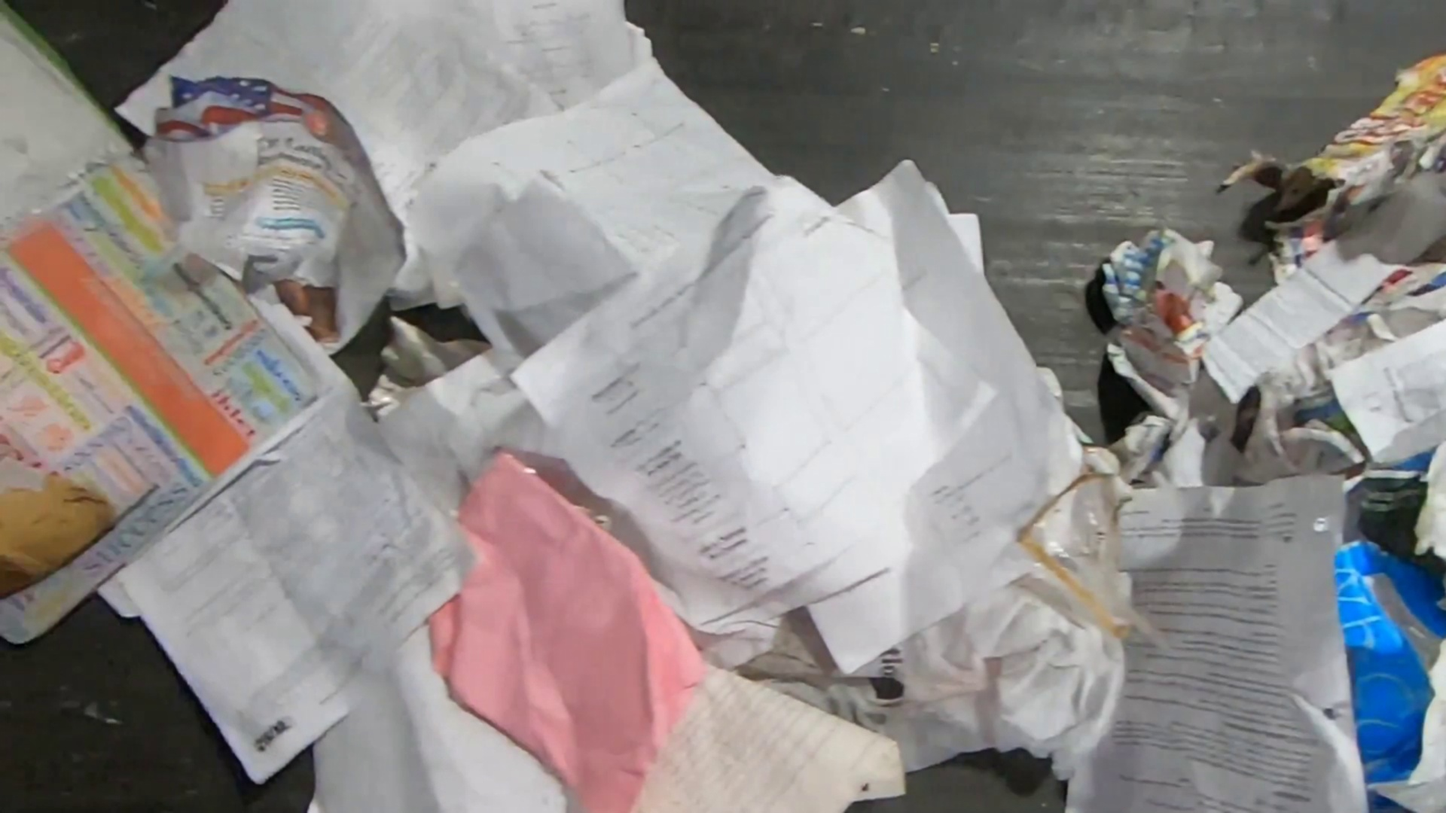cardboard: (1220, 51, 1446, 285), (1329, 538, 1446, 813), (0, 471, 116, 599), (368, 315, 493, 423)
plastic: (995, 465, 1139, 638)
